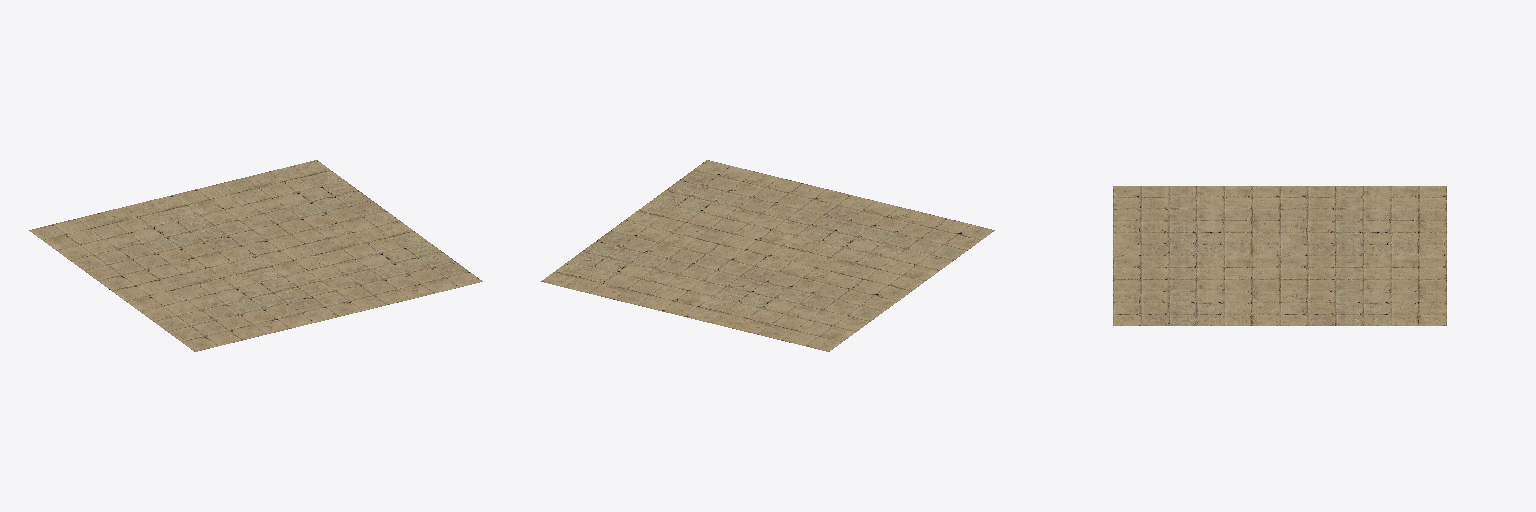
The picture shows the model from 3 angles: view 1: azimuth 30°, elevation 25°; view 2: azimuth 150°, elevation 25°; view 3: azimuth 270°, elevation 25°; orthographic projection.
Visible parts, largest first — view 1: ts001g001; view 2: ts001g001; view 3: ts001g001.
Part boxes in pixels (bbox=[...]): ts001g001: bbox=[29, 160, 482, 351]; ts001g001: bbox=[541, 160, 994, 351]; ts001g001: bbox=[1113, 186, 1446, 325].
Bounding box in the file's own units: 3 × 0 × 3.
1 materials, 1 textured.